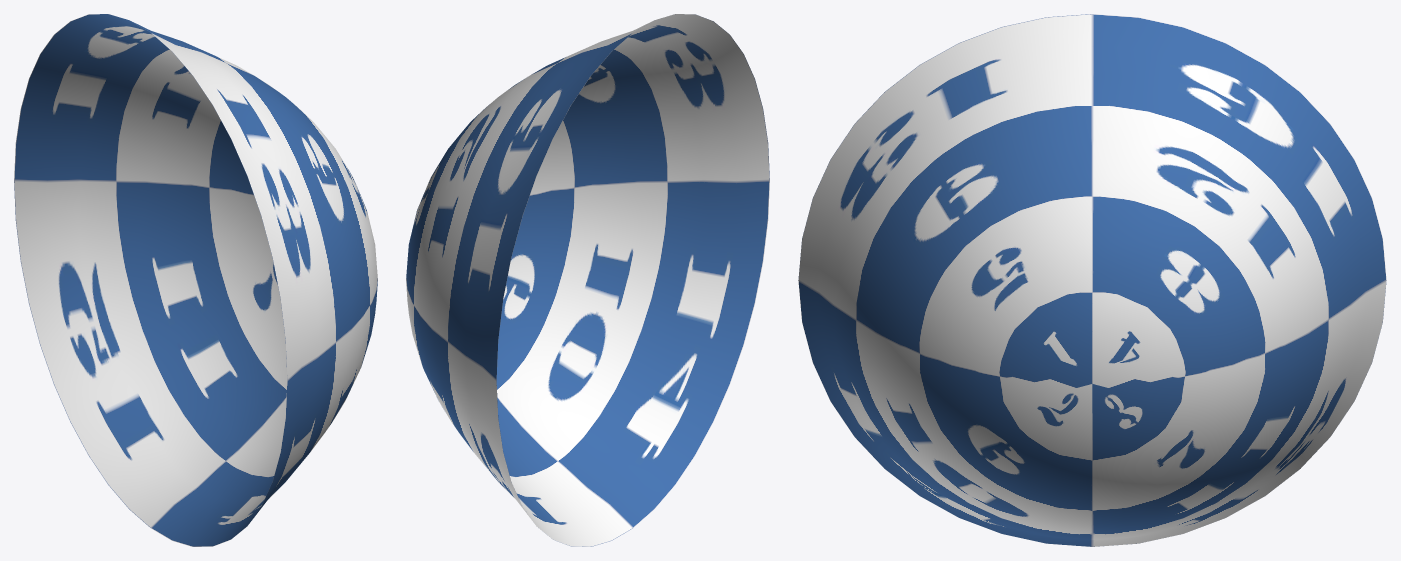
Rendered from RuiDad_Wind1.fbx.
The picture shows the model from 3 angles, left to right: view 1: azimuth 30°, elevation 25°; view 2: azimuth 150°, elevation 25°; view 3: azimuth 270°, elevation 25°; orthographic projection. The views are drawn at different scales.
Visible parts, largest first — view 1: SM_e_Plc_P1009_Wind005; view 2: SM_e_Plc_P1009_Wind005; view 3: SM_e_Plc_P1009_Wind005.
Boxes of the visible parts, left/top/right/bottom form: SM_e_Plc_P1009_Wind005: left=14, top=14, right=377, bottom=546; SM_e_Plc_P1009_Wind005: left=406, top=14, right=769, bottom=546; SM_e_Plc_P1009_Wind005: left=798, top=14, right=1386, bottom=546.
Size of the model in its own units: 50 by 120 by 120.
